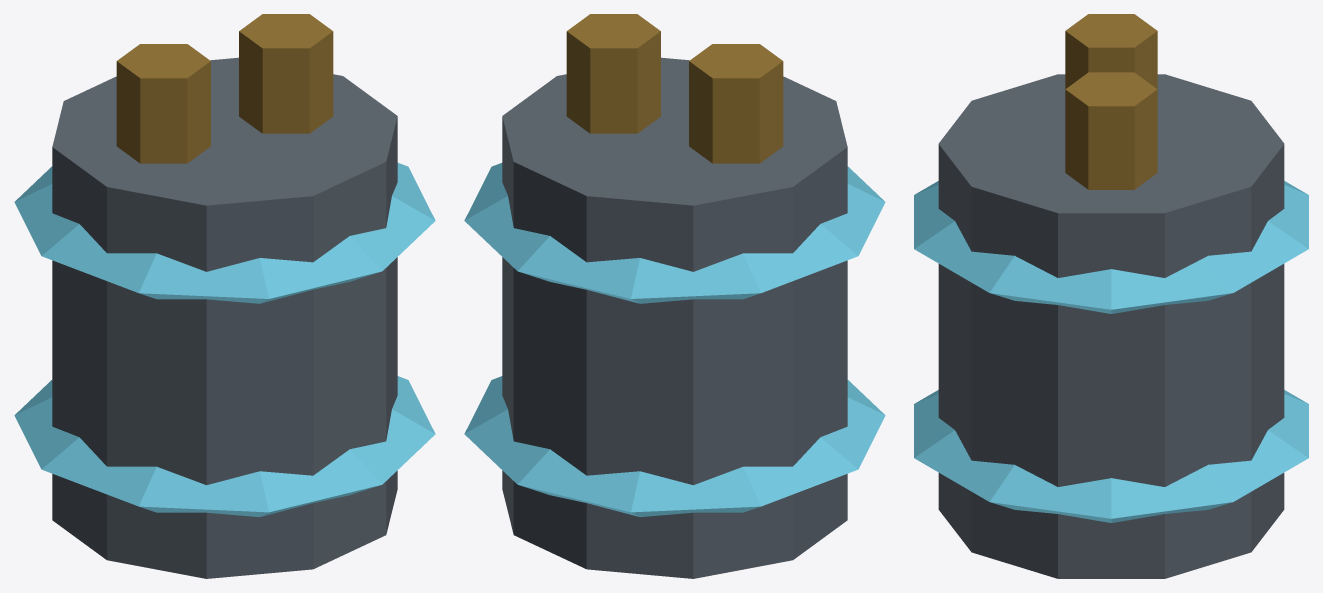
File: power-generator.glb
The picture shows the model from 3 angles, left to right: view 1: azimuth 30°, elevation 25°; view 2: azimuth 150°, elevation 25°; view 3: azimuth 270°, elevation 25°; orthographic projection. The views are drawn at different scales.
Visible parts, largest first — view 1: m; view 2: m; view 3: m.
Part boxes in pixels (box(x1,y1,x2,y2)): m: box(14, 14, 435, 578); m: box(464, 14, 885, 578); m: box(914, 14, 1308, 578).
Size of the model in its own units: 0.067 by 0.08 by 0.0637.
